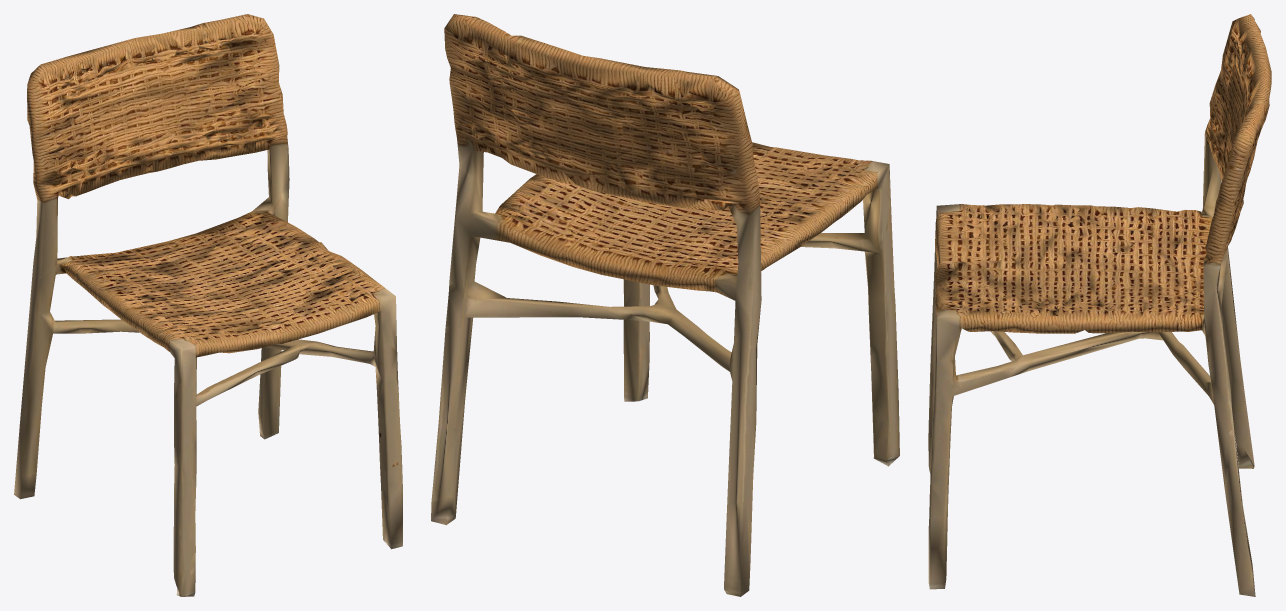
The model's file is cafechair_lod1.glb.
The picture shows the model from 3 angles, left to right: view 1: azimuth 30°, elevation 25°; view 2: azimuth 150°, elevation 25°; view 3: azimuth 270°, elevation 25°; orthographic projection. The views are drawn at different scales.
Visible parts, largest first — view 1: tripo_node_31f12766-8293-424b-b3c6-709b9bef3fed; view 2: tripo_node_31f12766-8293-424b-b3c6-709b9bef3fed; view 3: tripo_node_31f12766-8293-424b-b3c6-709b9bef3fed.
Boxes of the visible parts, box(x1,y1,x2,y2) form: tripo_node_31f12766-8293-424b-b3c6-709b9bef3fed: box(14, 14, 402, 596); tripo_node_31f12766-8293-424b-b3c6-709b9bef3fed: box(431, 14, 899, 596); tripo_node_31f12766-8293-424b-b3c6-709b9bef3fed: box(928, 14, 1271, 596).
Size of the model in its own units: 0.5382 by 0.8482 by 0.5711.
Materials: 1 (1 with a texture image).
